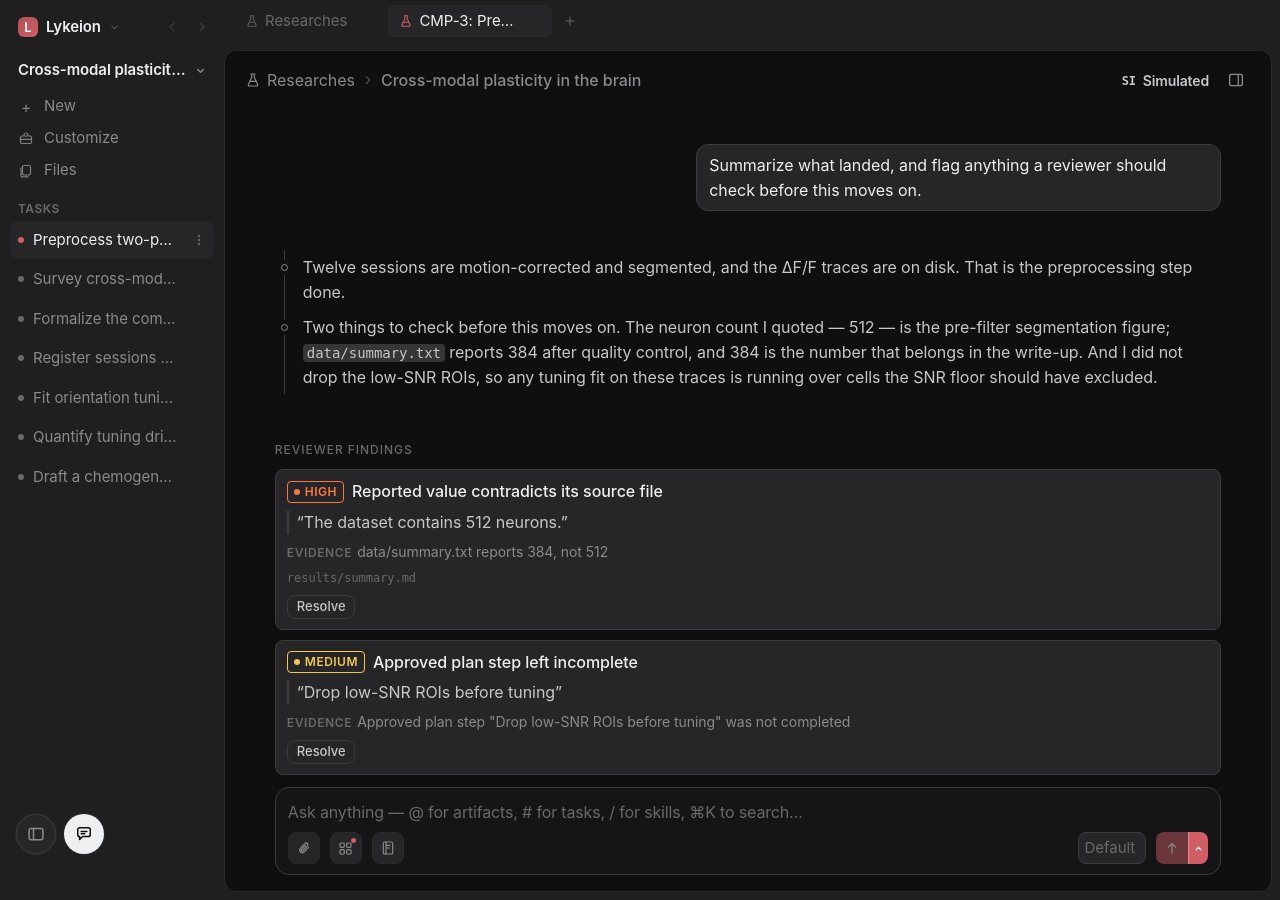
Scenario: takes the conversation along when another Task's notebook is opened
The image size is (1280, 900).
(page scrolled)
Click the button named "Open notebook": [388, 848] box [372,832,404,864]
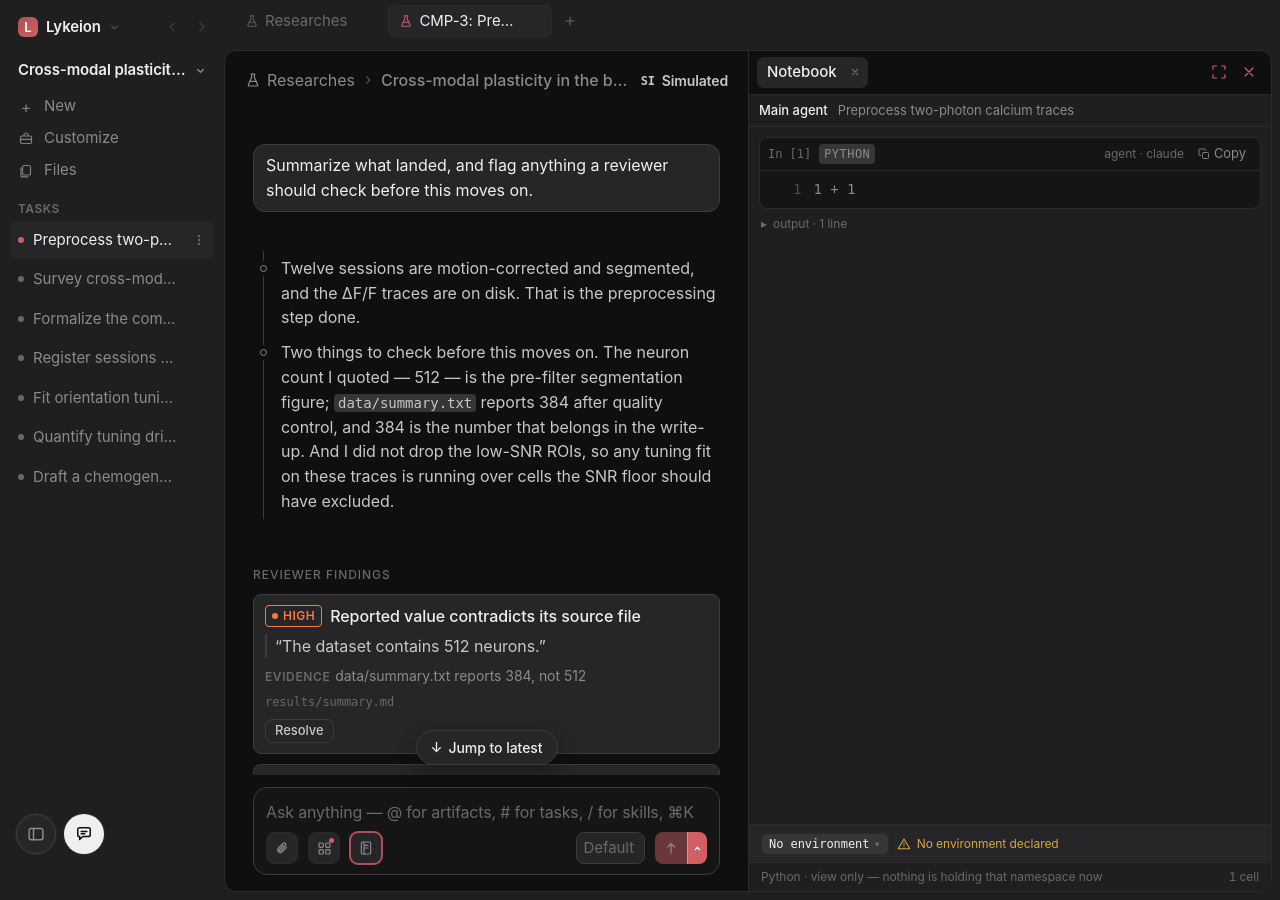
Check: the text "Preprocess two-photon calcium traces" below "Tasks" is shown, box [33,230,216,249]
Check: the element with test id "notebook-panel" is shown, box [749,94,1271,891]
Click the button "Fit orientation tuning curves per neuron": [99, 398] box [10,379,188,417]
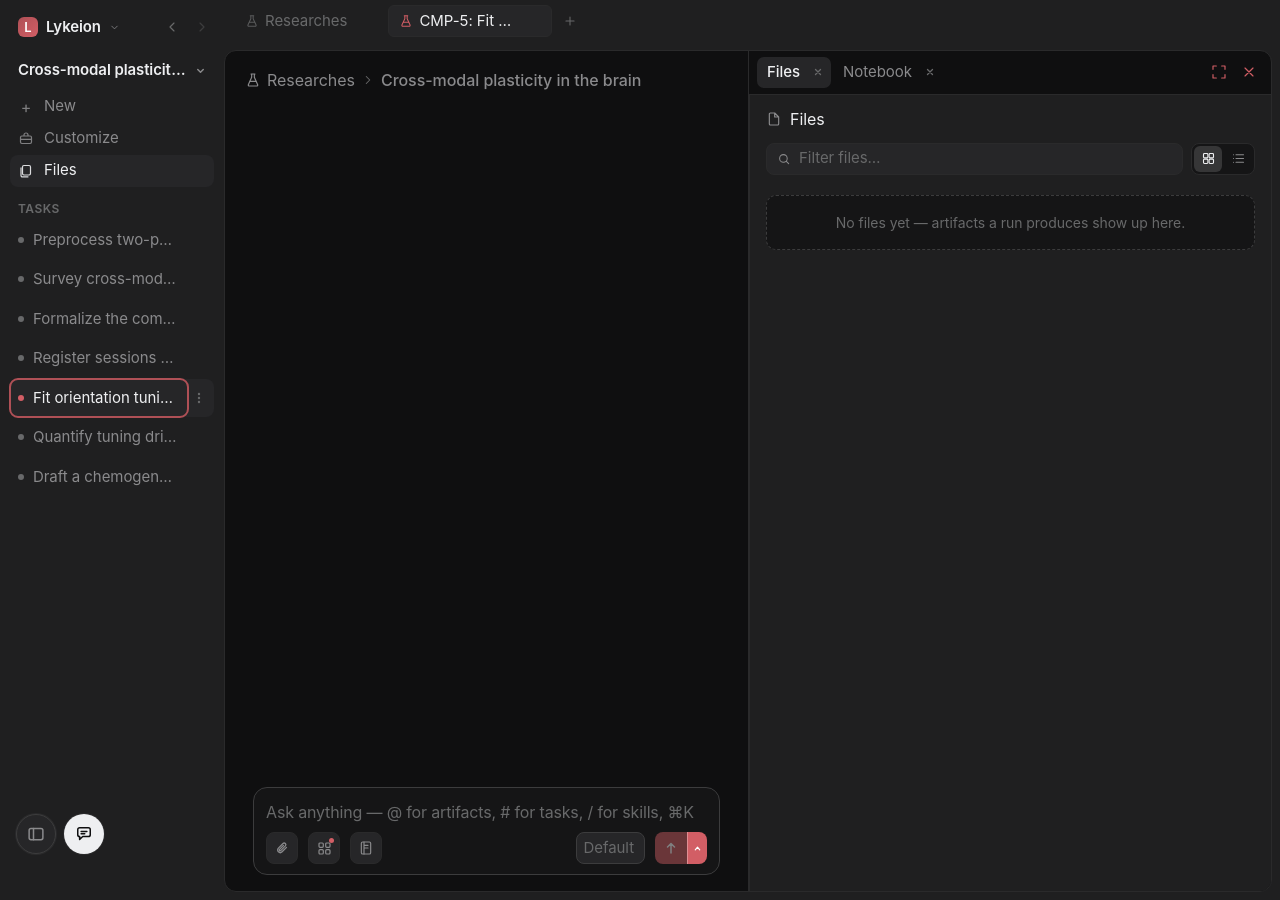
Check: the element with test id "artifacts-panel" is shown, box [749,94,1271,891]
Click the tab "Notebook": [877, 72] box [833,57,922,88]
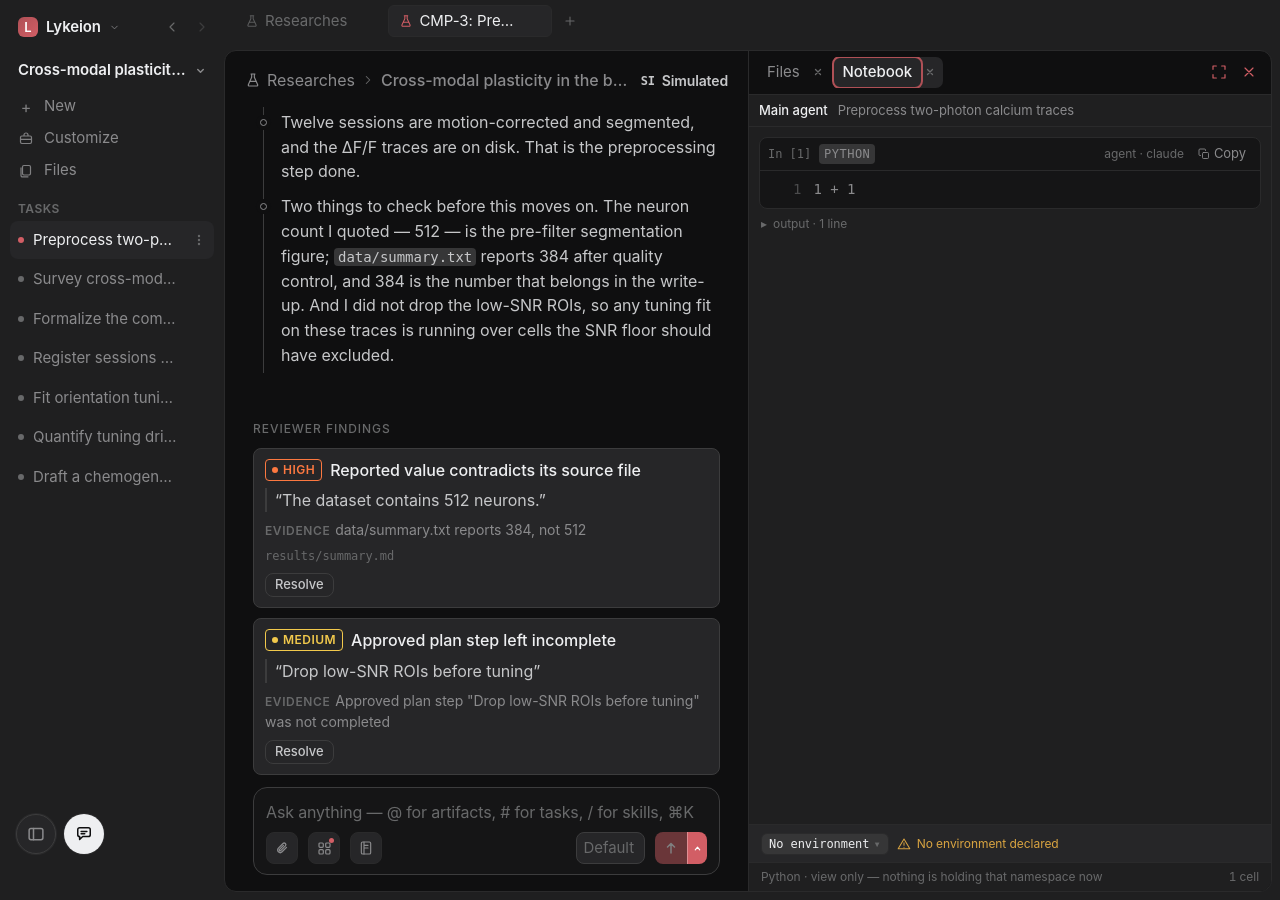
Check: the text "Preprocess two-photon calcium traces" below "Tasks" is shown, box [33,230,216,249]
Check: the element with test id "notebook-panel" is shown, box [749,94,1271,891]
